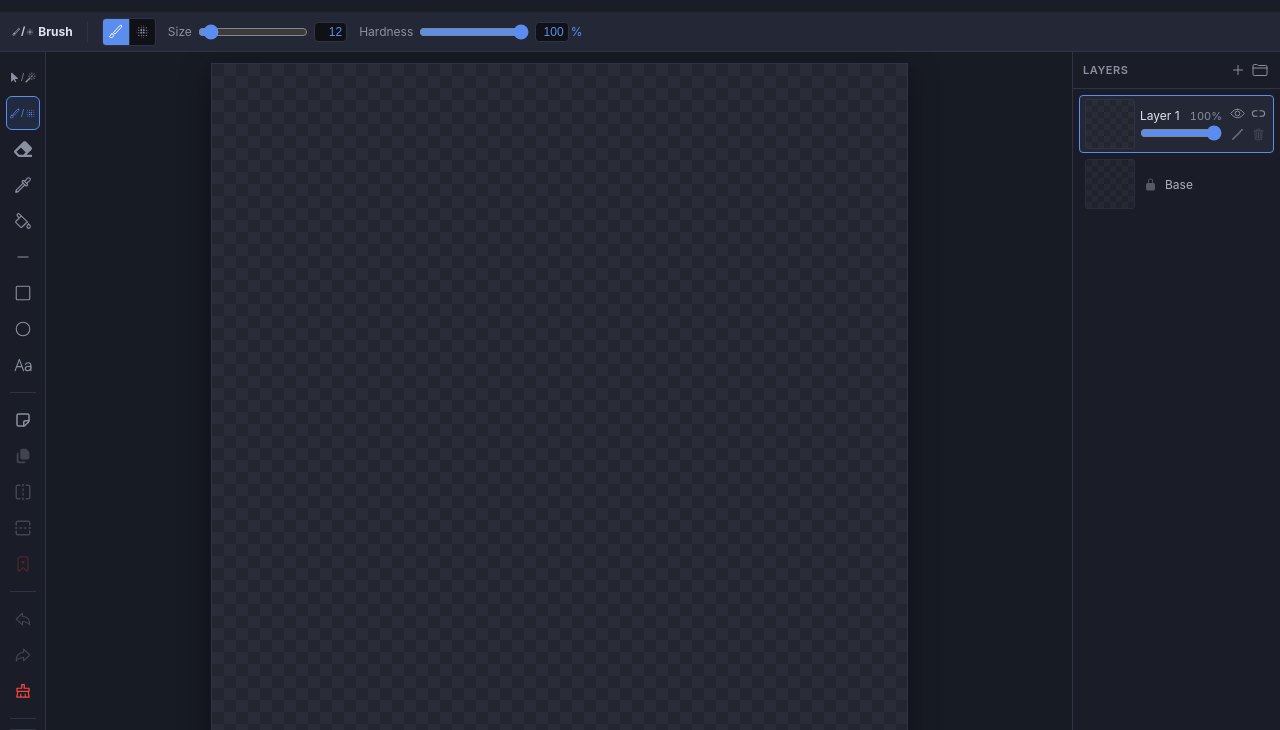
Test: brush size shortcuts + Shift-click straight lines › brush size accepts a typed number (slider follows, clamped)
Expected: the slider labelled "Size" holds "12", [198,24,308,40]
Replace the text in the field named "Size" with "87". click: [330, 32]
box: [314,22,347,42]
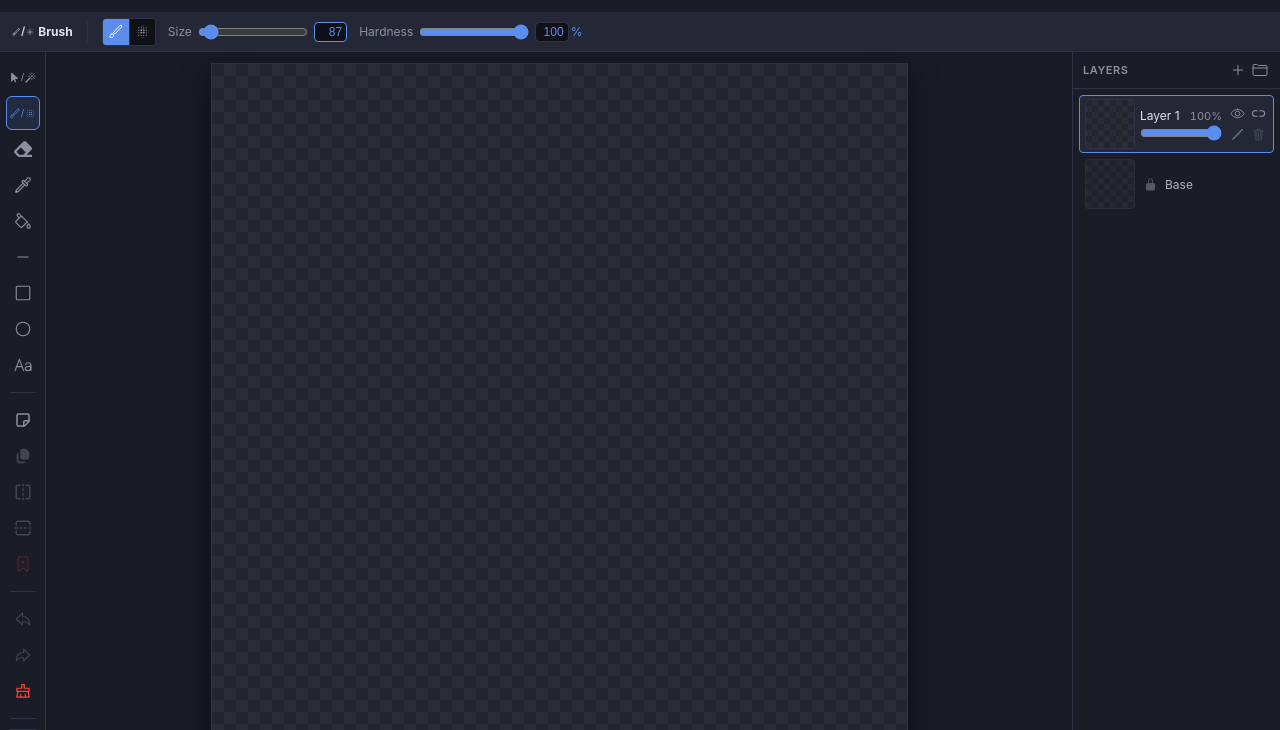
Leave the field named "Size", box [314,22,347,42]
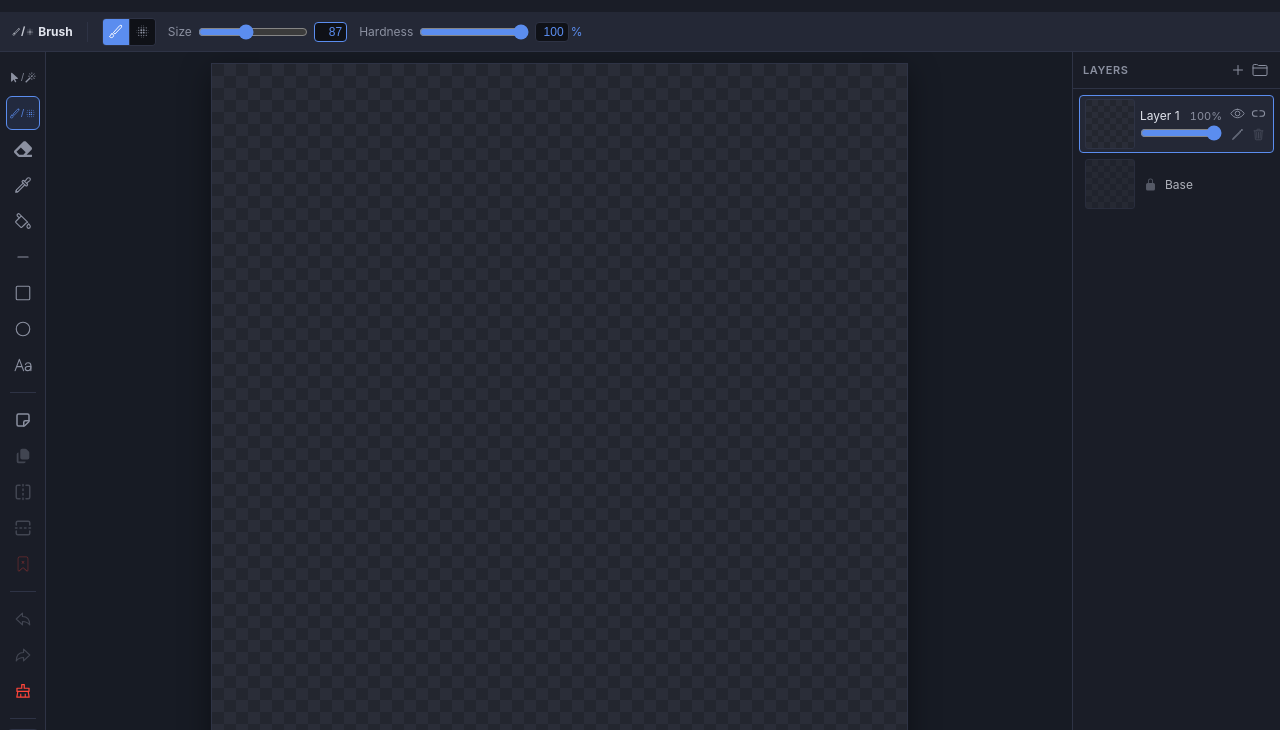
Expected: the slider labelled "Size" holds "87", [198,24,308,40]
Note: Out-of-range clamps to the slider maximum.
Replace the text in the field named "Size" with "500". click: [330, 32]
box: [314,22,347,42]
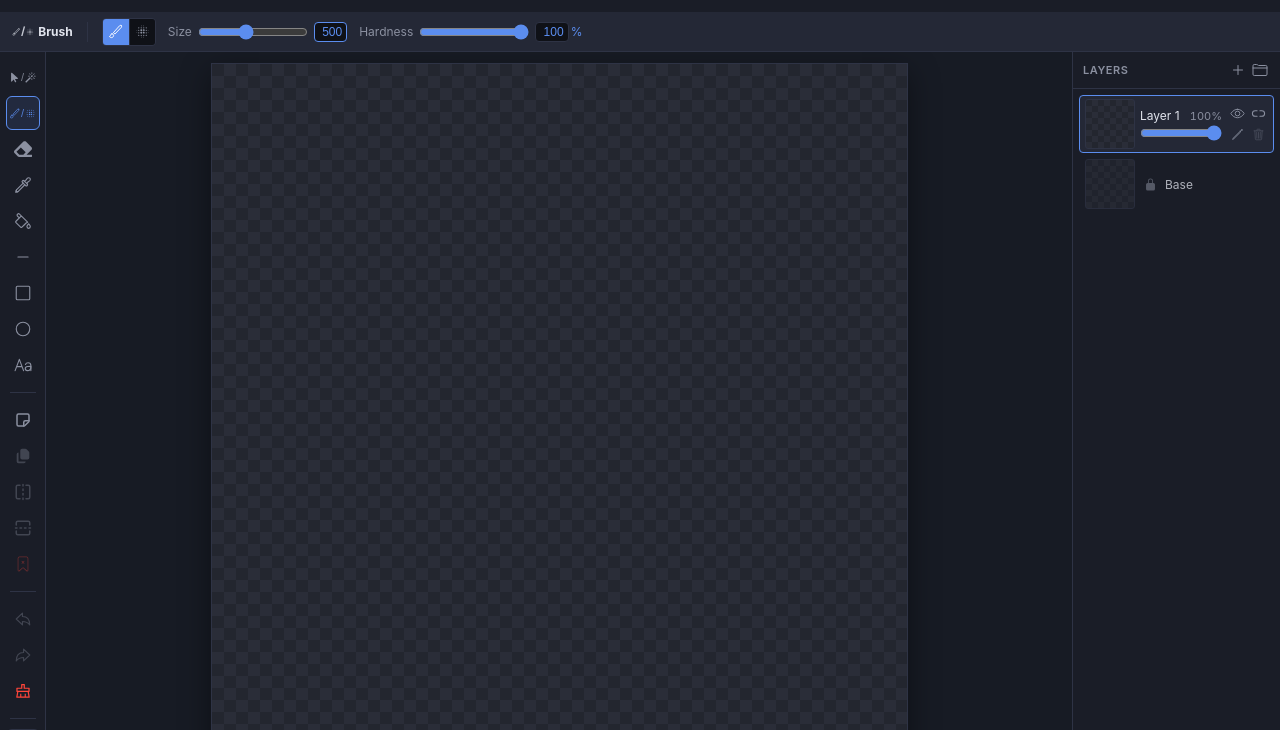
Leave the field named "Size", box [314,22,347,42]
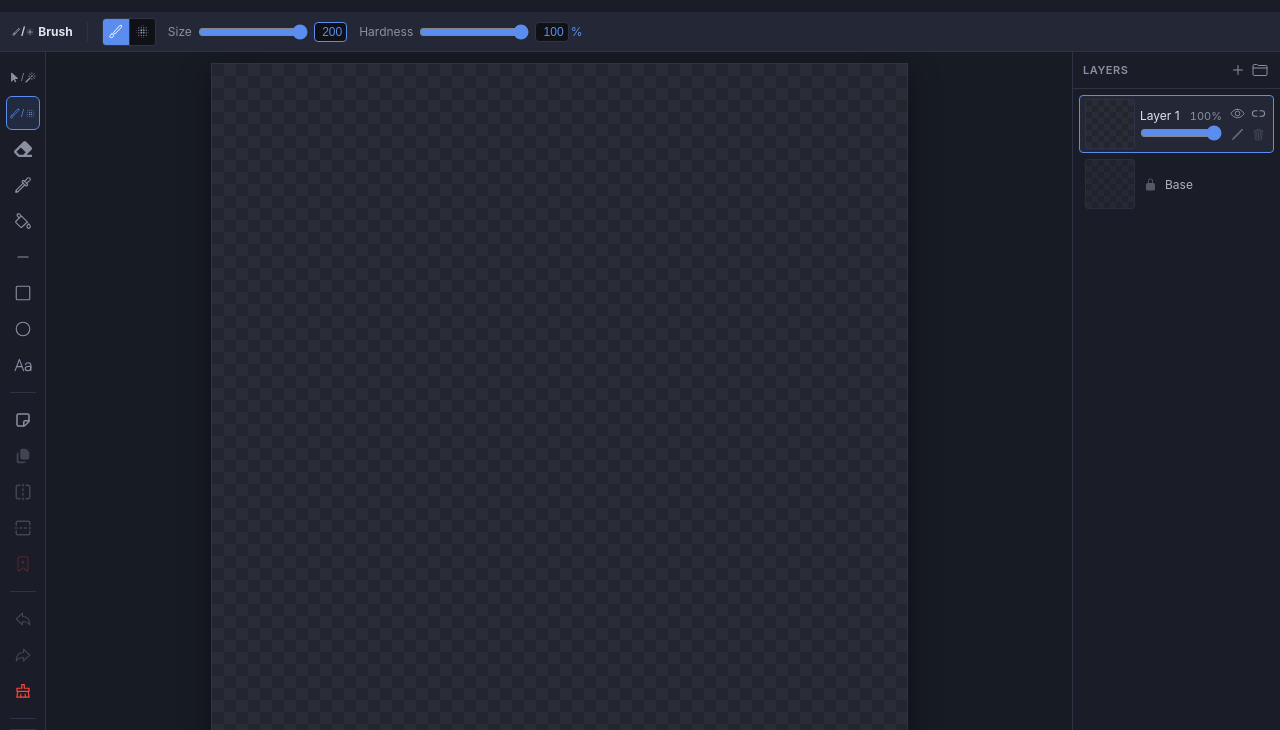
Expected: the slider labelled "Size" holds "200", [198,24,308,40]
Expected: the field named "Size" holds "200"
Note: Minimum clamps to 1.
Replace the text in the field named "Size" with "0". click: [330, 32]
box: [314,22,347,42]
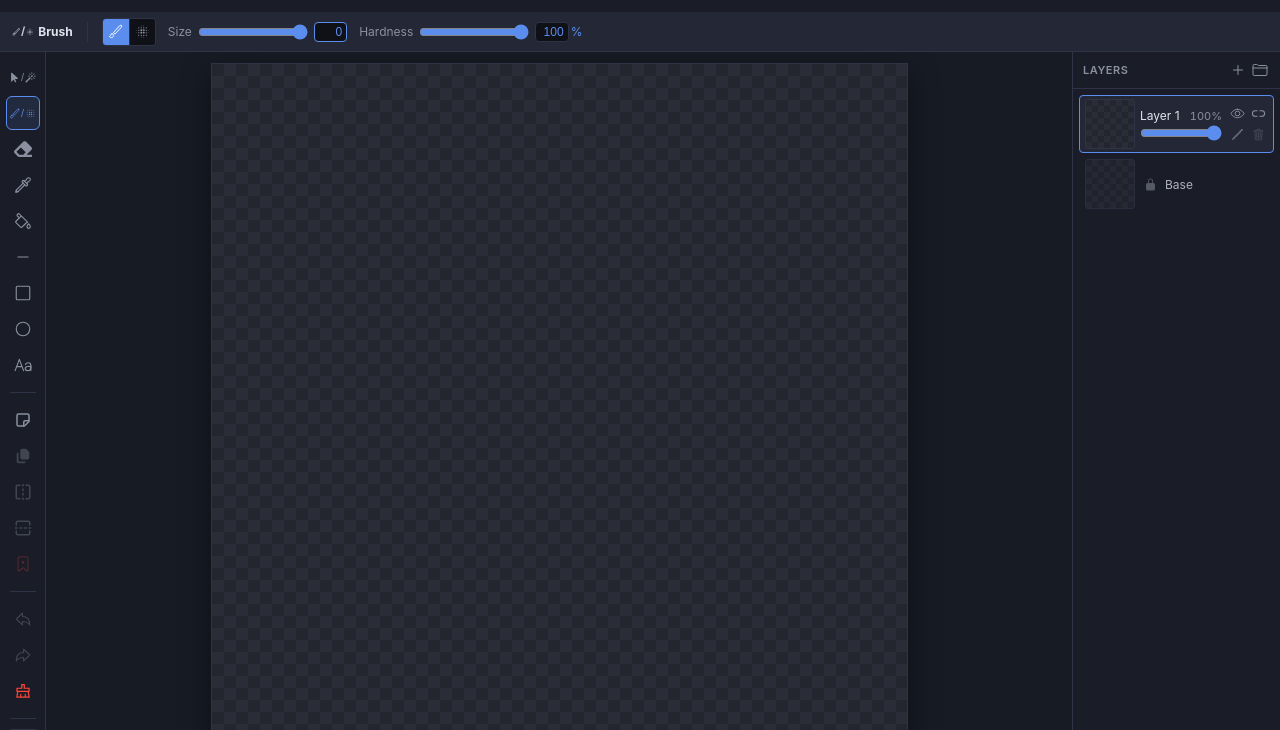
Leave the field named "Size", box [314,22,347,42]
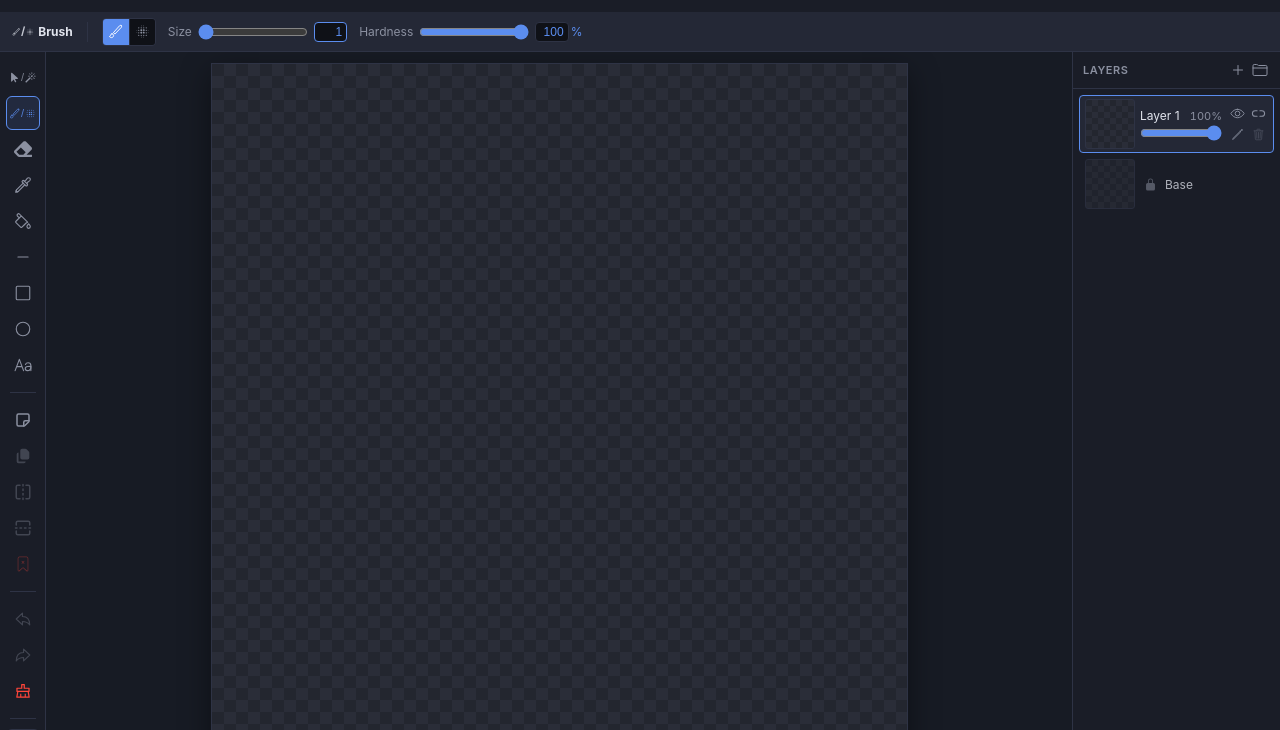
Expected: the slider labelled "Size" holds "1", [198,24,308,40]
Expected: the field named "Size" holds "1", [314,22,347,42]
